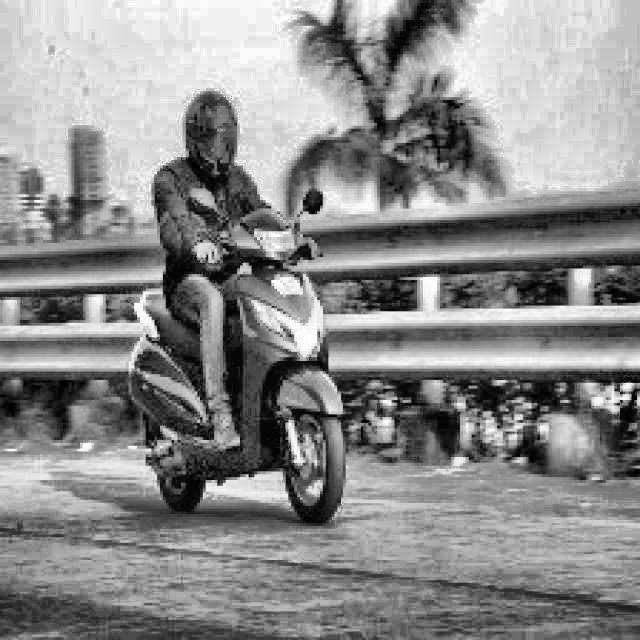motorcycle: (83, 187, 370, 527)
